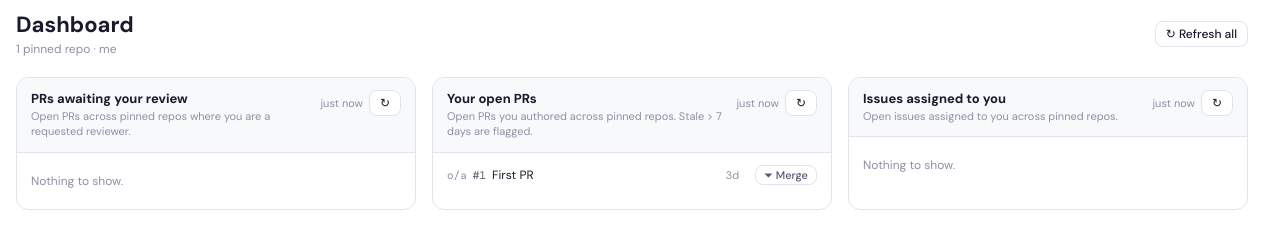
Test: Dashboard row actions › does not refetch when the action fails
Click the button titled "Squash-merge this PR".
click(786, 175)  # box [755,165,817,185]
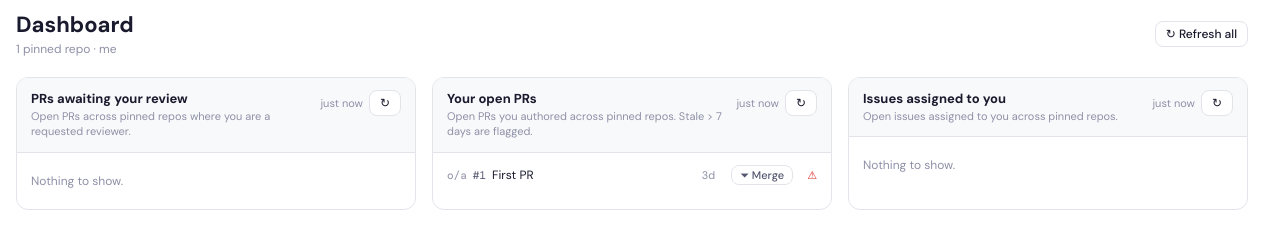
Expected: the button titled "Squash-merge this PR" is enabled, [731,165,793,185]
Expected: the text titled "conflict" is shown, [807,168,817,182]
